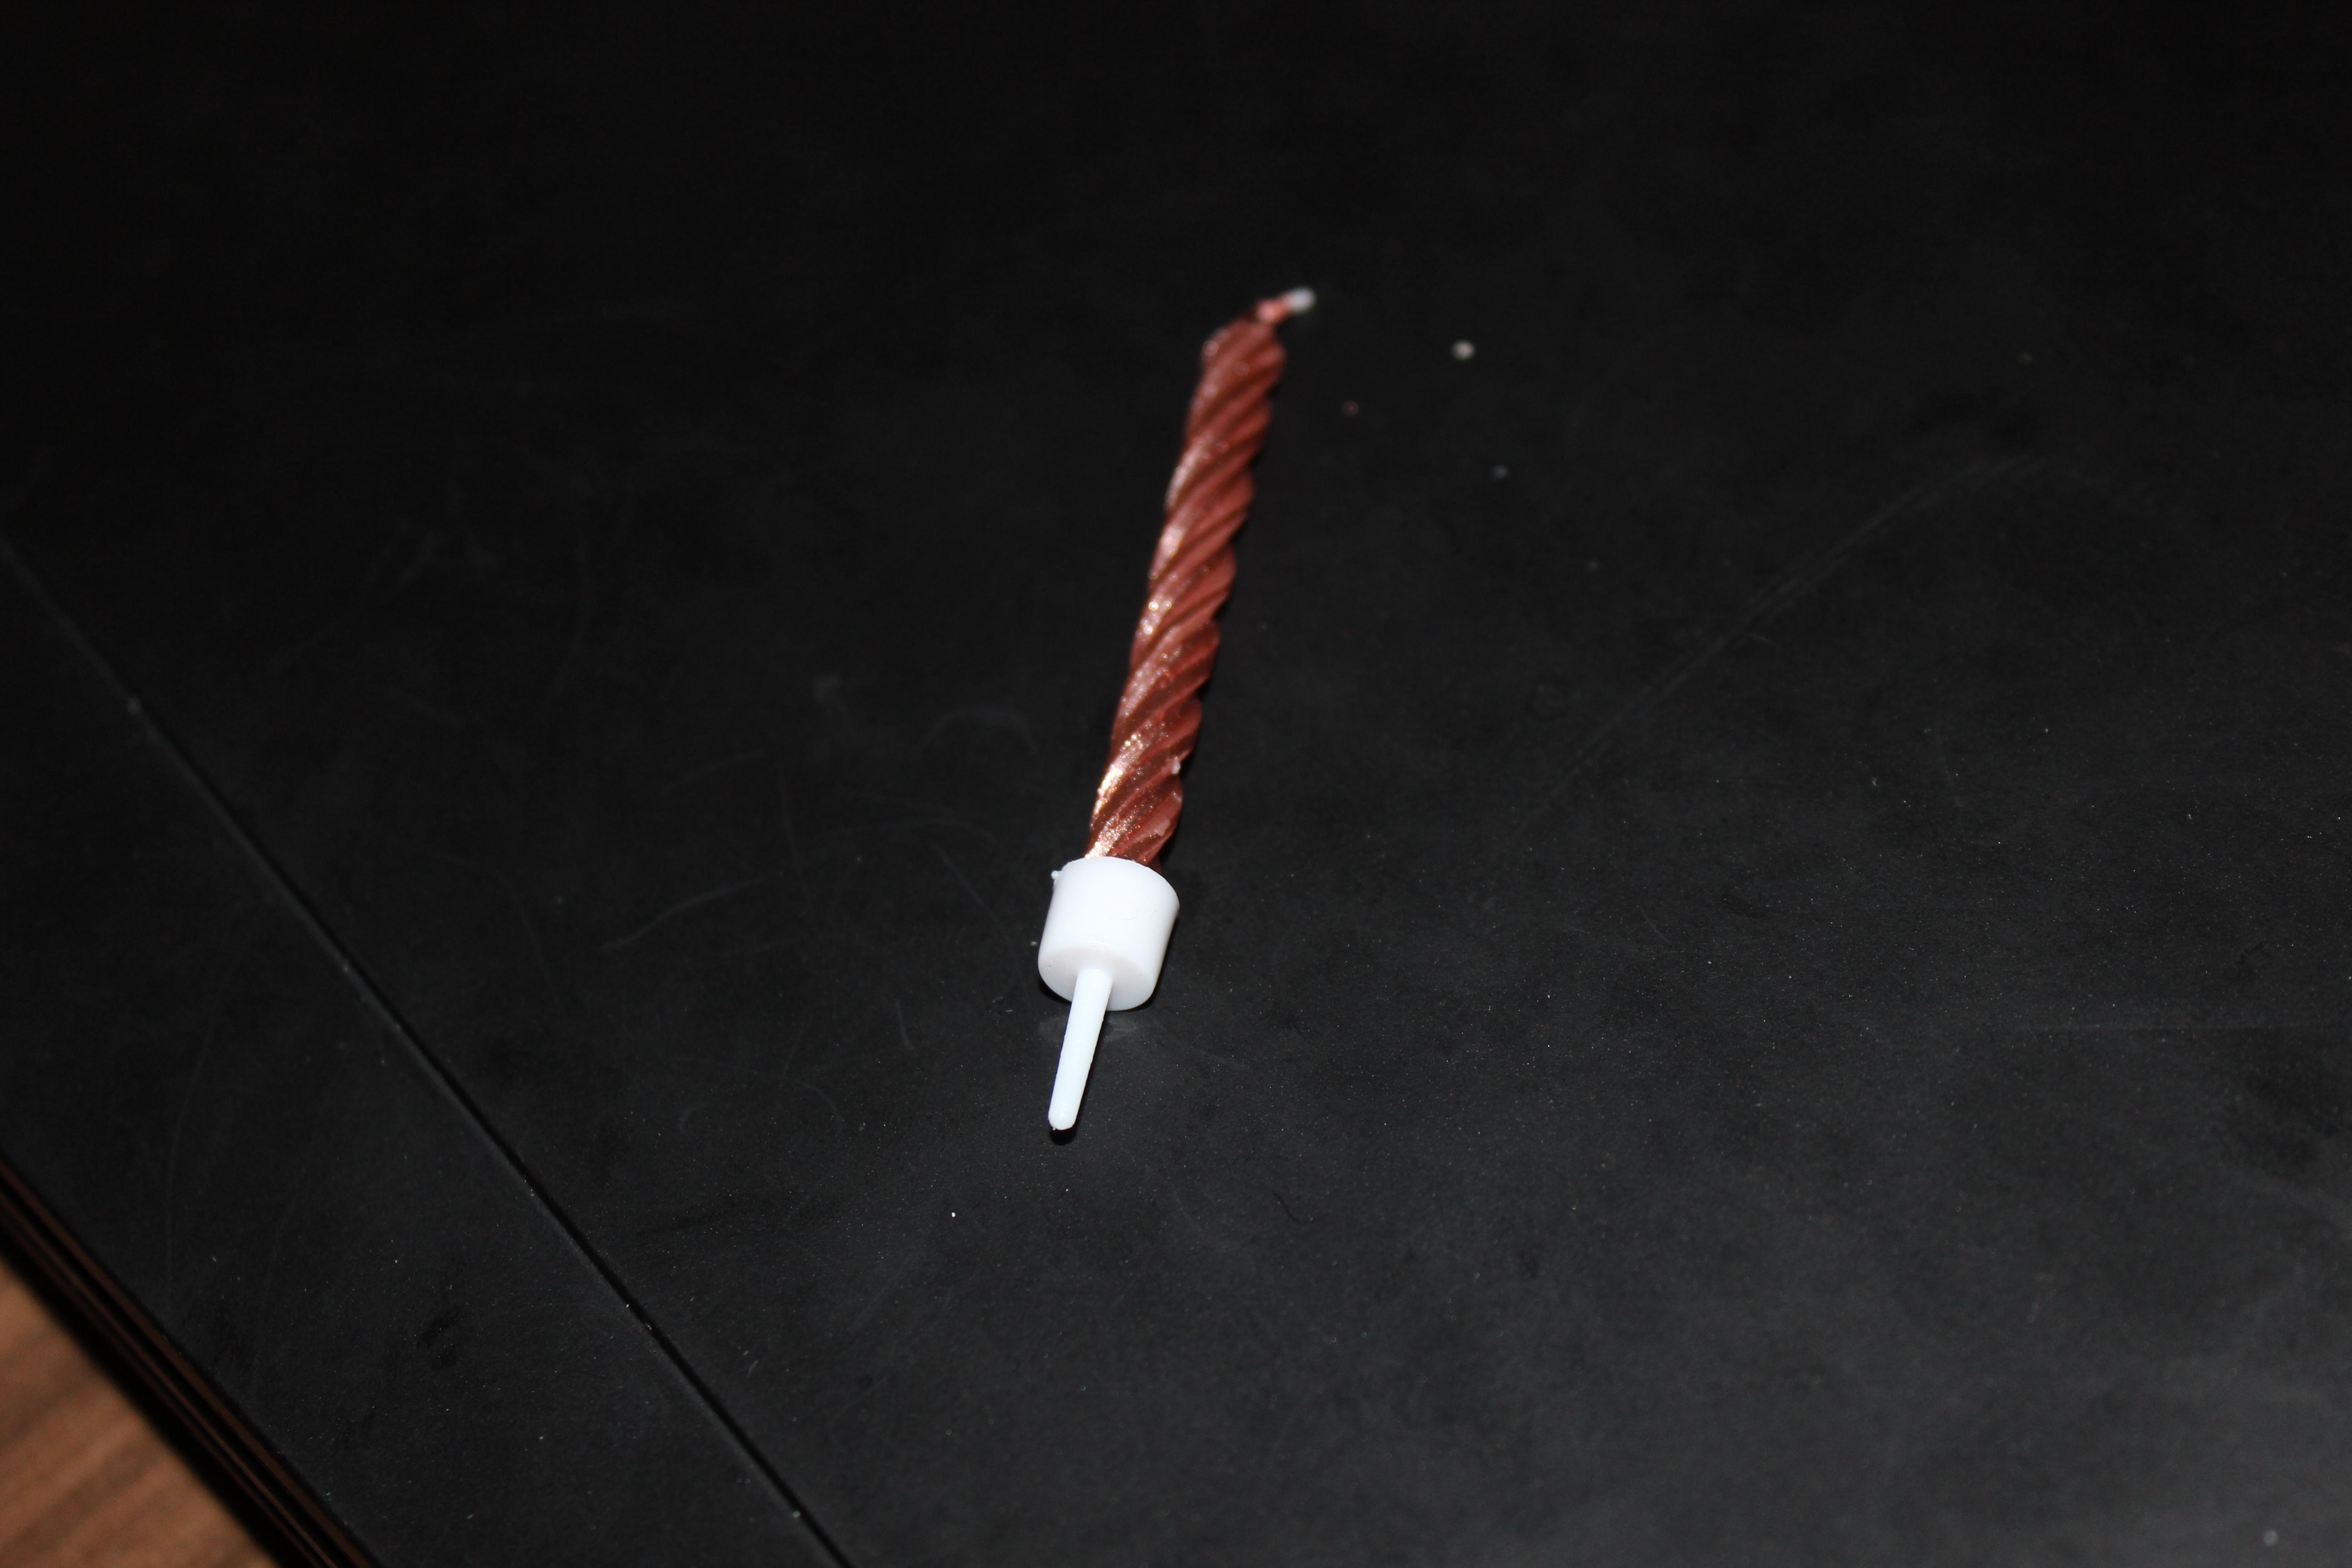pinkCandle: (966, 257, 1370, 1172)
